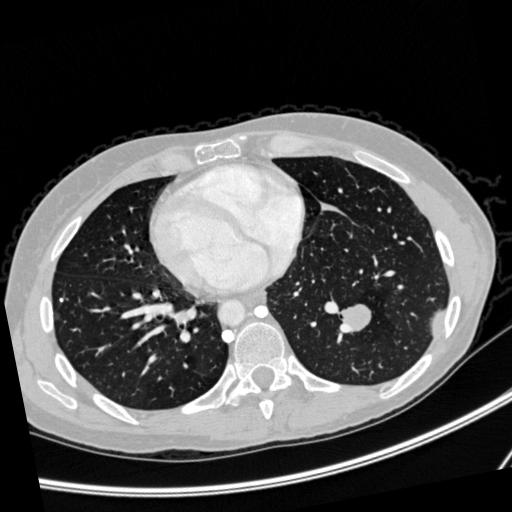nodule: (342, 299, 377, 334)
